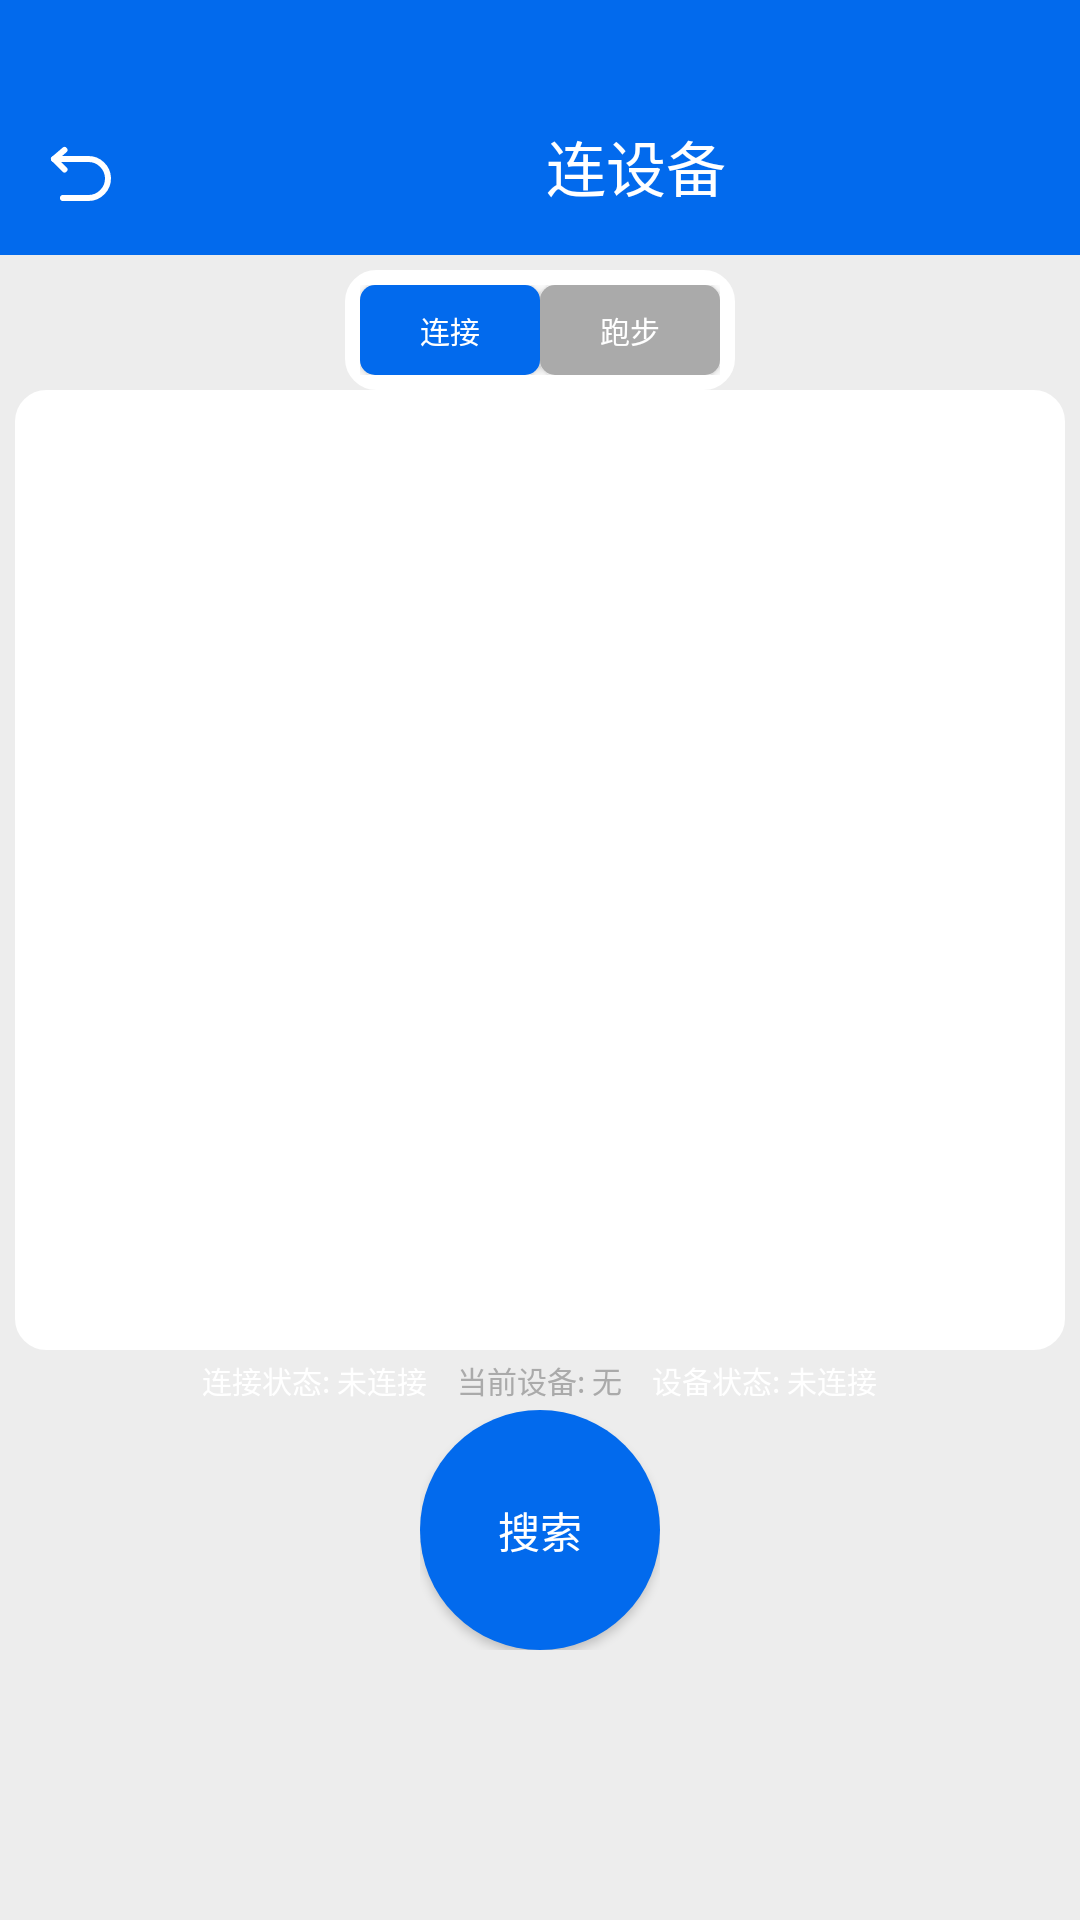

Locate icon controls on the screen. Image size 1080 x 1920, boxes as {"left": x1, "top": y1, "right": x2, "bottom": y2}.
res return: {"left": 50, "top": 146, "right": 111, "bottom": 201}
